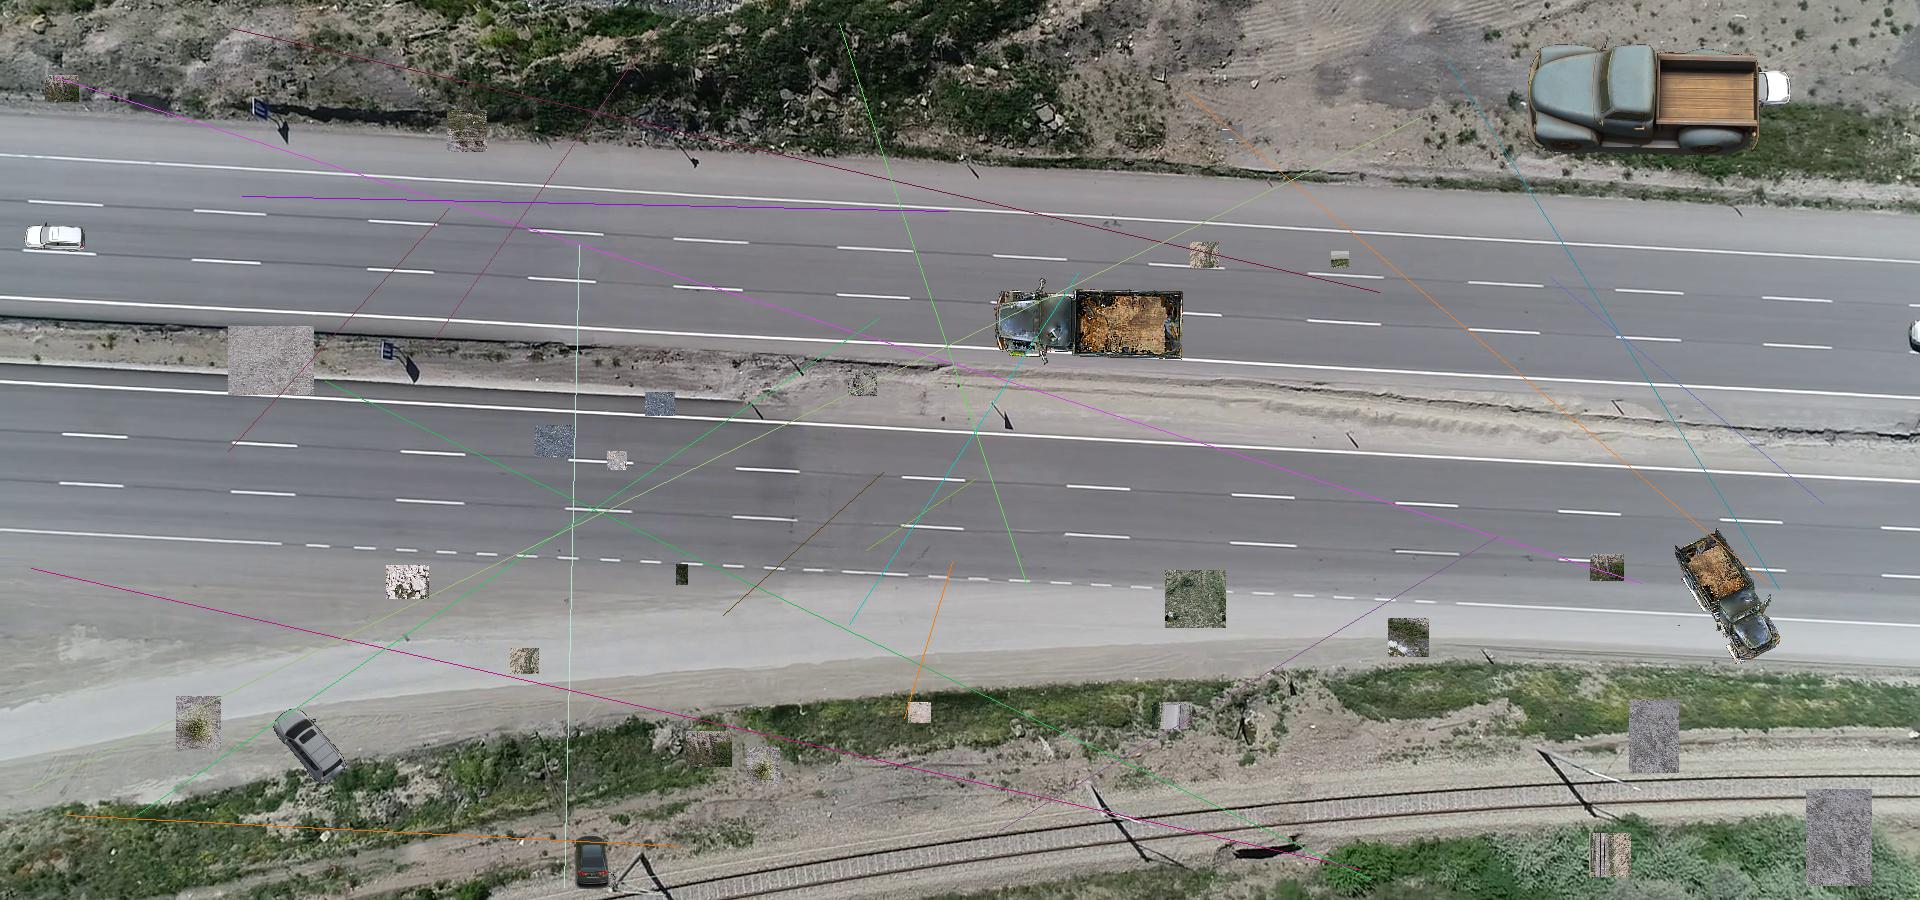arac: (1528, 36, 1762, 156), (992, 276, 1188, 371), (1671, 527, 1780, 664), (271, 708, 350, 786), (1700, 65, 1791, 109), (572, 835, 611, 891), (24, 222, 86, 256)
